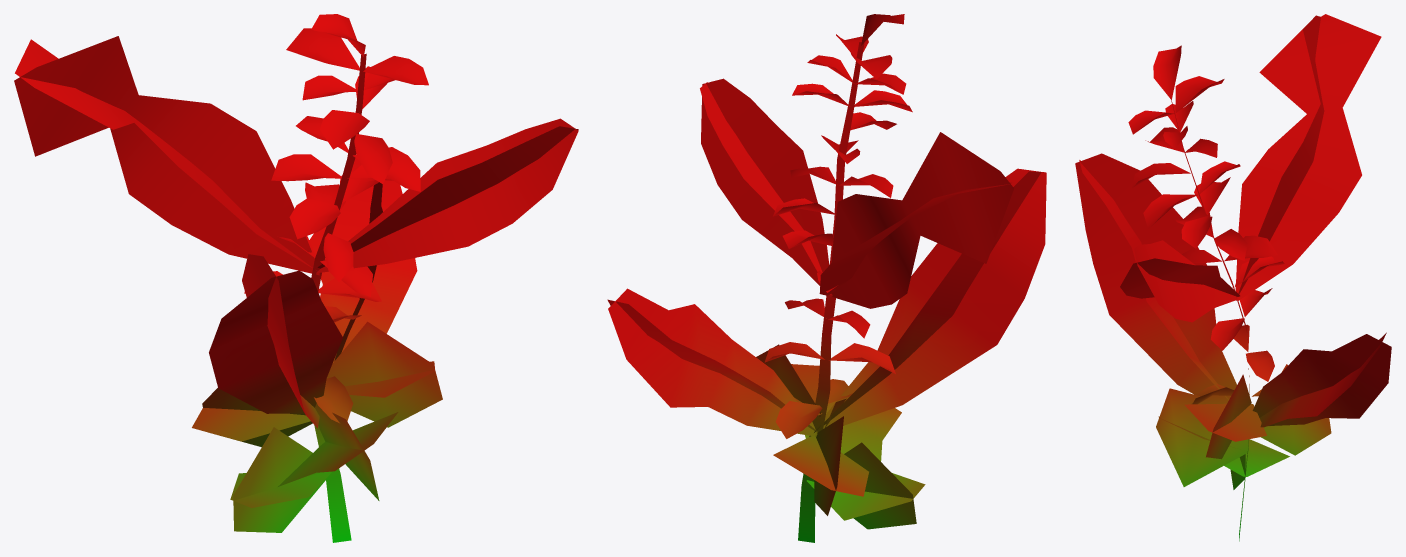
Rendered from European Spindle_LOD3_Var6.fbx.
The picture shows the model from 3 angles, left to right: view 1: azimuth 30°, elevation 25°; view 2: azimuth 150°, elevation 25°; view 3: azimuth 270°, elevation 25°; orthographic projection. The views are drawn at different scales.
Parts seen in each view (by area): view 1: _qpqh_Var6_LOD3; view 2: _qpqh_Var6_LOD3; view 3: _qpqh_Var6_LOD3.
Part boxes in pixels (<box>): _qpqh_Var6_LOD3: <box>14,14,578,542</box>; _qpqh_Var6_LOD3: <box>607,14,1046,542</box>; _qpqh_Var6_LOD3: <box>1075,14,1391,541</box>.
Bounding box in the file's own units: 62.88 × 75.14 × 45.8.
